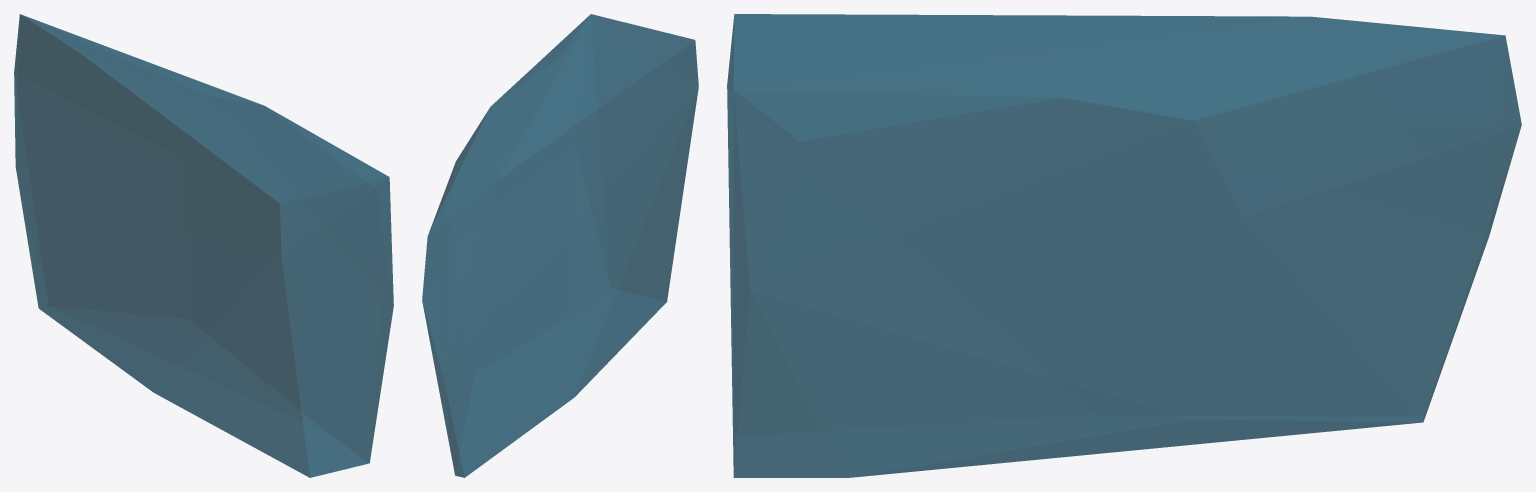
The picture shows the model from 3 angles, left to right: view 1: azimuth 30°, elevation 25°; view 2: azimuth 150°, elevation 25°; view 3: azimuth 270°, elevation 25°; orthographic projection. The views are drawn at different scales.
Visible parts, largest first — view 1: Shape_IndexedFaceSet.088_Shape_IndexedFaceSet.9609; view 2: Shape_IndexedFaceSet.088_Shape_IndexedFaceSet.9609; view 3: Shape_IndexedFaceSet.088_Shape_IndexedFaceSet.9609.
Part boxes in pixels (box(x1,y1,x2,y2)): Shape_IndexedFaceSet.088_Shape_IndexedFaceSet.9609: box(14, 14, 393, 477); Shape_IndexedFaceSet.088_Shape_IndexedFaceSet.9609: box(422, 14, 698, 477); Shape_IndexedFaceSet.088_Shape_IndexedFaceSet.9609: box(727, 14, 1521, 477).
Size of the model in its own units: 0.0797 by 0.1779 by 0.3189.
